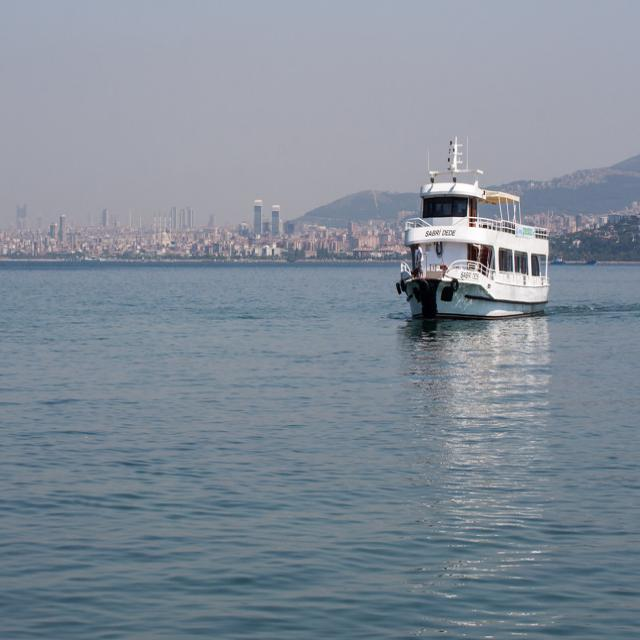passenger ship: (379, 154, 565, 313)
